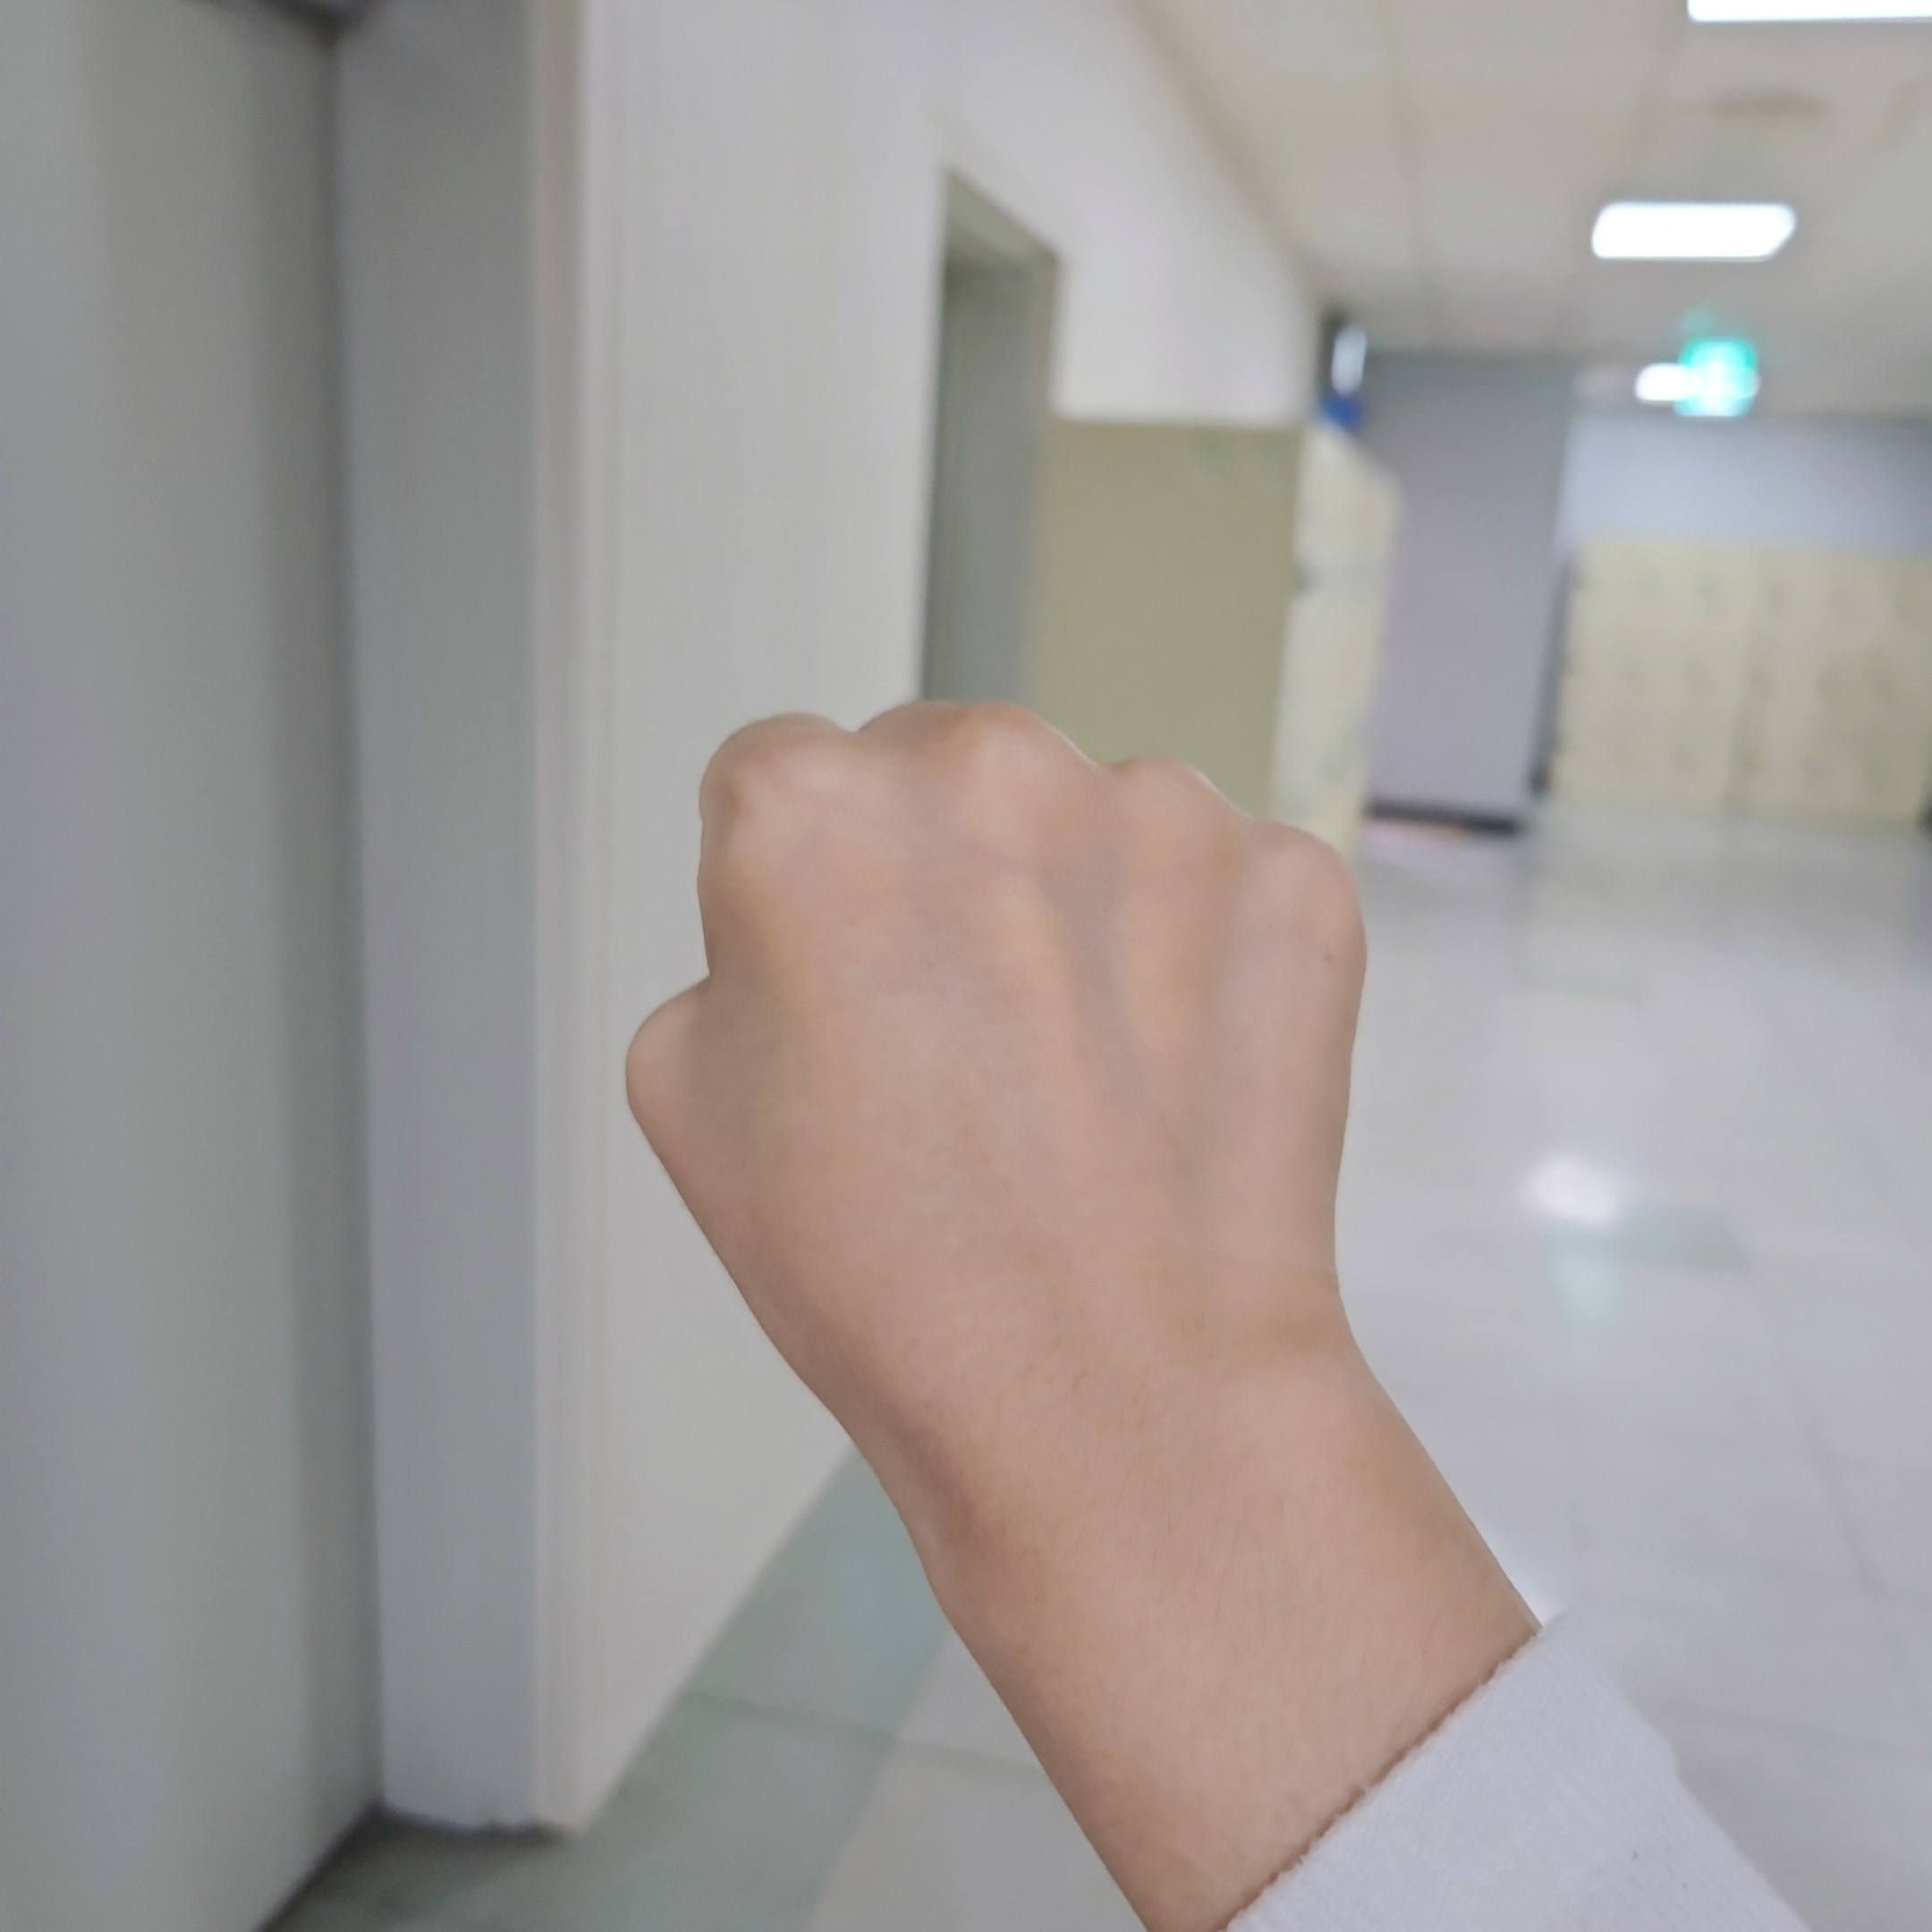smile: (619, 693, 1388, 1537)
